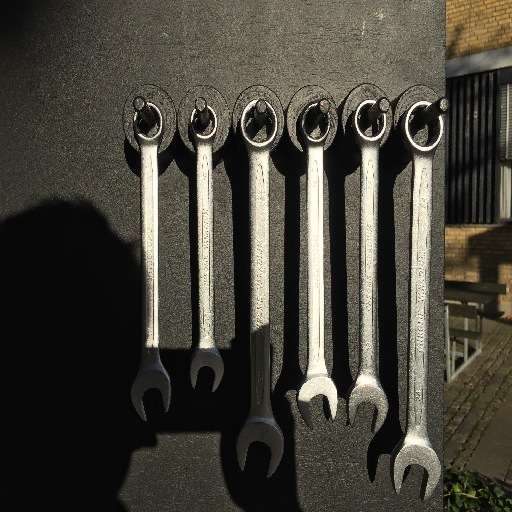bottom: (389, 432, 441, 503), (234, 417, 286, 479), (128, 365, 174, 424), (296, 373, 340, 431), (347, 375, 388, 433), (190, 344, 225, 394)
top: (401, 101, 445, 156), (238, 97, 280, 154), (351, 99, 391, 148), (296, 99, 334, 149), (132, 100, 165, 147), (190, 105, 218, 144)
